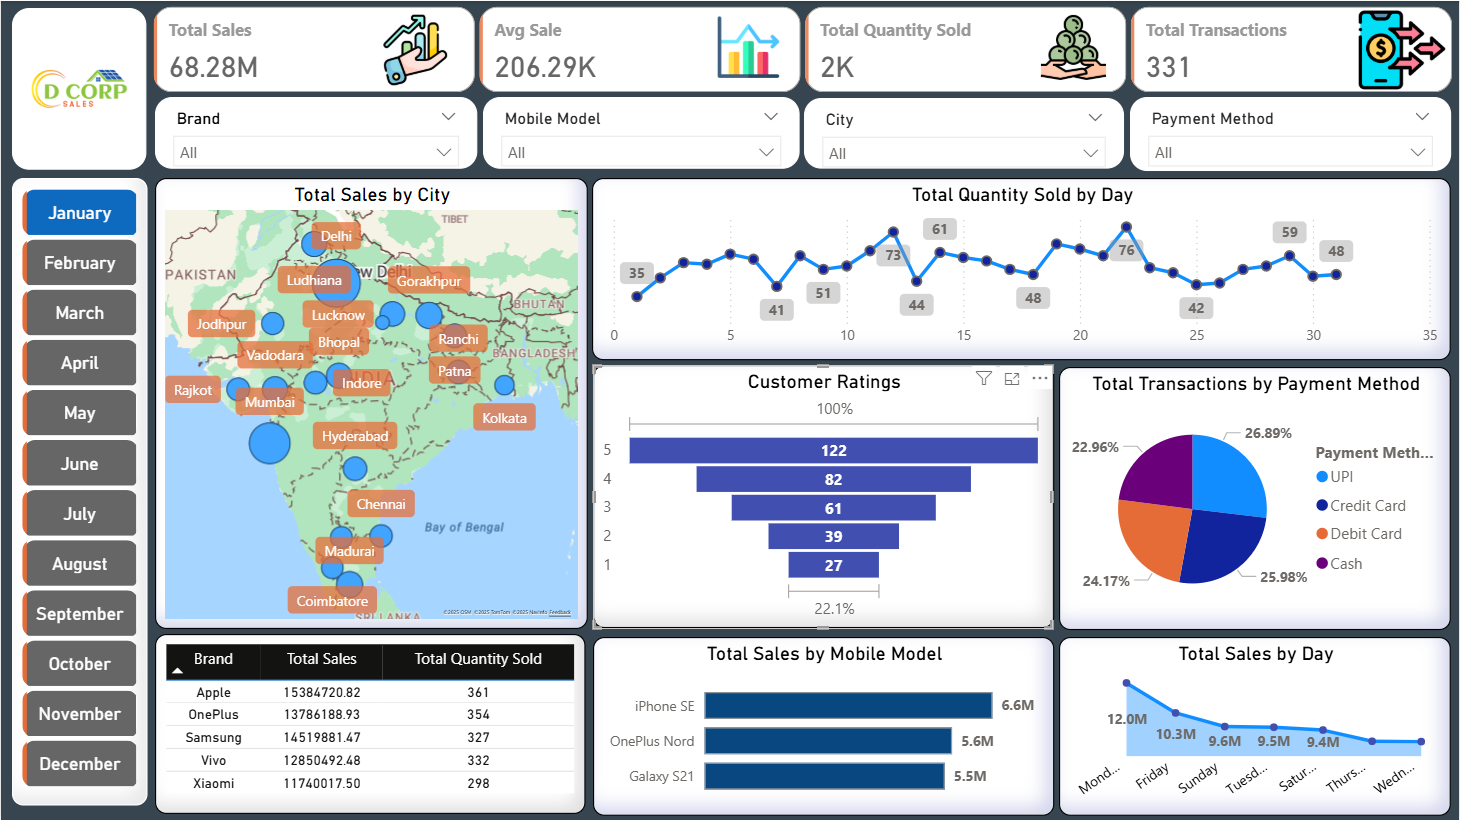

The dashboard page shown, as its layout file describes it:
{"tool":"powerbi","page":{"name":"Dashboard","canvas":[1280,720],"ordinal":0},"visuals":[{"type":"cardVisual","fields":{"Data":["MobileSales_Data.Total Sales","MobileSales_Data.Avg Sale","MobileSales_Data.Total Quantity Sold","MobileSales_Data.Total Transactions"]},"box":[128.9,0,1151.1,85.6],"z":500},{"type":"listSlicer","fields":{"Values":["MobileSales_Data.OrderDate.Variation.Date Hierarchy.Month"]},"box":[9.6,155.7,119.2,550.6],"z":1000},{"type":"image","box":[624.3,3.9,63.8,73.6],"z":2250},{"type":"image","box":[325.9,6.9,76.6,71.7],"z":2500},{"type":"image","box":[906,4.9,70.7,71.7],"z":2750},{"type":"image","box":[1186.7,0,86.4,86.4],"z":2875},{"type":"azureMap","fields":{"Category":["City_Data.City"],"Size":["MobileSales_Data.Total Sales"]},"box":[135.5,155.7,379.6,395.9],"z":3000},{"type":"lineChart","fields":{"Y":["MobileSales_Data.Total Quantity Sold"],"Category":["MobileSales_Data.OrderDate.Variation.Date Hierarchy.Month","MobileSales_Data.OrderDate.Variation.Date Hierarchy.Day"]},"box":[518.9,155.7,754.4,160.5],"z":4000},{"type":"clusteredBarChart","fields":{"Category":["MobileSales_Data.Mobile Model"],"Y":["MobileSales_Data.Total Sales"]},"box":[519.4,558.3,404.6,156.6],"z":5000},{"type":"pieChart","fields":{"Category":["MobileSales_Data.Payment Method"],"Y":["MobileSales_Data.Total Transactions"]},"box":[928.9,321,344.3,230.5],"z":6000},{"type":"funnel","title":"Customer Ratings ","fields":{"Y":["CountNonNull(MobileSales_Data.Customer Ratings)"],"Category":["MobileSales_Data.Customer Ratings"]},"box":[519.4,320,404.6,231.5],"z":7000},{"type":"stackedAreaChart","fields":{"Category":["MobileSales_Data.Day"],"Y":["MobileSales_Data.Total Sales"]},"box":[928.9,558.3,344.3,156.6],"z":8000},{"type":"tableEx","fields":{"Values":["MobileSales_Data.Brand","MobileSales_Data.Total Sales","MobileSales_Data.Total Quantity Sold"]},"box":[135.2,555.4,378.4,157.6],"z":9000},{"type":"slicer","fields":{"Values":["MobileSales_Data.Brand"]},"box":[135.5,84.6,282.5,63.4],"z":10000},{"type":"slicer","fields":{"Values":["MobileSales_Data.Mobile Model"]},"box":[422.8,84.6,277.7,63.4],"z":11000},{"type":"slicer","fields":{"Values":["MobileSales_Data.City"]},"box":[705.3,85.5,280.6,62.5],"z":12000},{"type":"slicer","fields":{"Values":["MobileSales_Data.Payment Method"]},"box":[991.7,84.6,281.6,65.3],"z":13000},{"type":"image","box":[9.6,5.8,118.2,142.2],"z":14000}]}

Visuals, with their boxes in screenshot pixels (x1, y1, x2, y2), scaled from the page's 1280x720 canvas onto the 1460x820 screenshot:
cardVisual - MobileSales_Data.Total Sales x MobileSales_Data.Avg Sale: BBox(147, 0, 1459, 97)
listSlicer - MobileSales_Data.OrderDate.Variation.Date Hierarchy.Month: BBox(11, 177, 147, 804)
image: BBox(712, 4, 785, 88)
image: BBox(372, 8, 459, 90)
image: BBox(1033, 6, 1114, 87)
image: BBox(1354, 0, 1452, 98)
azureMap - City_Data.City x MobileSales_Data.Total Sales: BBox(155, 177, 588, 628)
lineChart - MobileSales_Data.Total Quantity Sold x MobileSales_Data.OrderDate.Variation.Date Hierarchy.Month: BBox(592, 177, 1452, 360)
clusteredBarChart - MobileSales_Data.Mobile Model x MobileSales_Data.Total Sales: BBox(592, 636, 1054, 814)
pieChart - MobileSales_Data.Payment Method x MobileSales_Data.Total Transactions: BBox(1060, 366, 1452, 628)
"Customer Ratings " funnel: BBox(592, 364, 1054, 628)
stackedAreaChart - MobileSales_Data.Day x MobileSales_Data.Total Sales: BBox(1060, 636, 1452, 814)
tableEx - MobileSales_Data.Brand x MobileSales_Data.Total Sales: BBox(154, 633, 586, 812)
slicer - MobileSales_Data.Brand: BBox(155, 96, 477, 169)
slicer - MobileSales_Data.Mobile Model: BBox(482, 96, 799, 169)
slicer - MobileSales_Data.City: BBox(804, 97, 1125, 169)
slicer - MobileSales_Data.Payment Method: BBox(1131, 96, 1452, 171)
image: BBox(11, 7, 146, 169)
